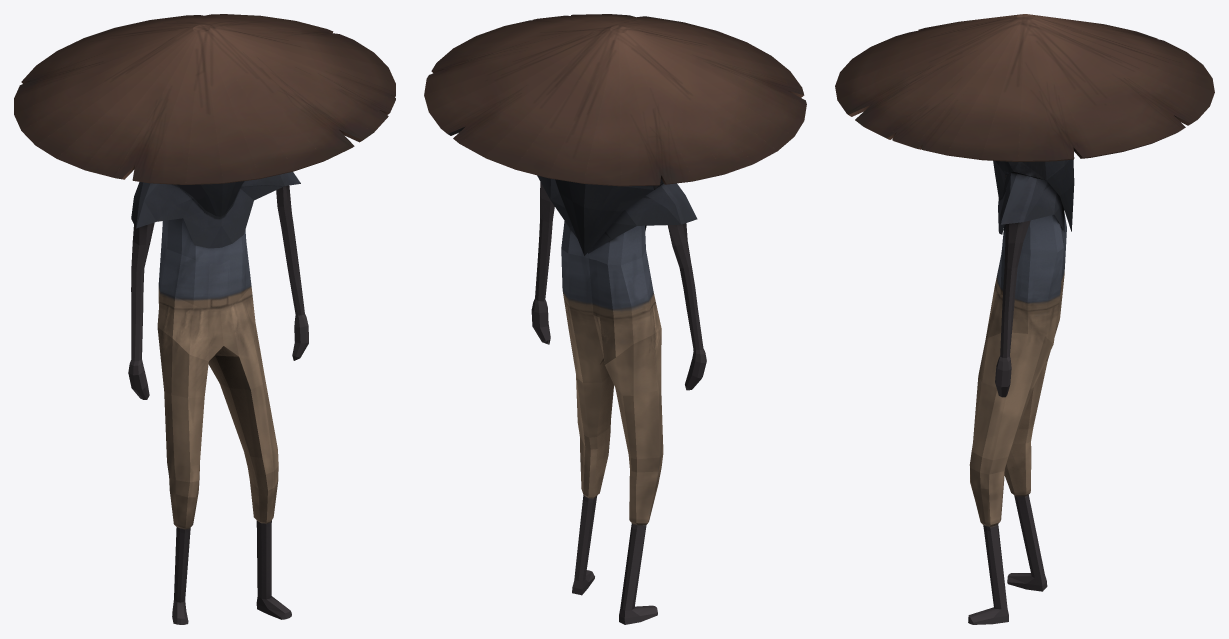
The model's file is audience.obj.
3 views of the same model, side by side, from view 1: azimuth 30°, elevation 25°; view 2: azimuth 150°, elevation 25°; view 3: azimuth 270°, elevation 25° (orthographic).
Parts seen in each view (by area): view 1: Cube; view 2: Cube; view 3: Cube.
Part boxes in pixels (x1,y1,x2,y2): Cube: (14, 14, 395, 624); Cube: (424, 14, 806, 624); Cube: (835, 14, 1214, 624).
Size of the model in its own units: 2.03 by 3.42 by 2.03.
1 material, 1 textured.
